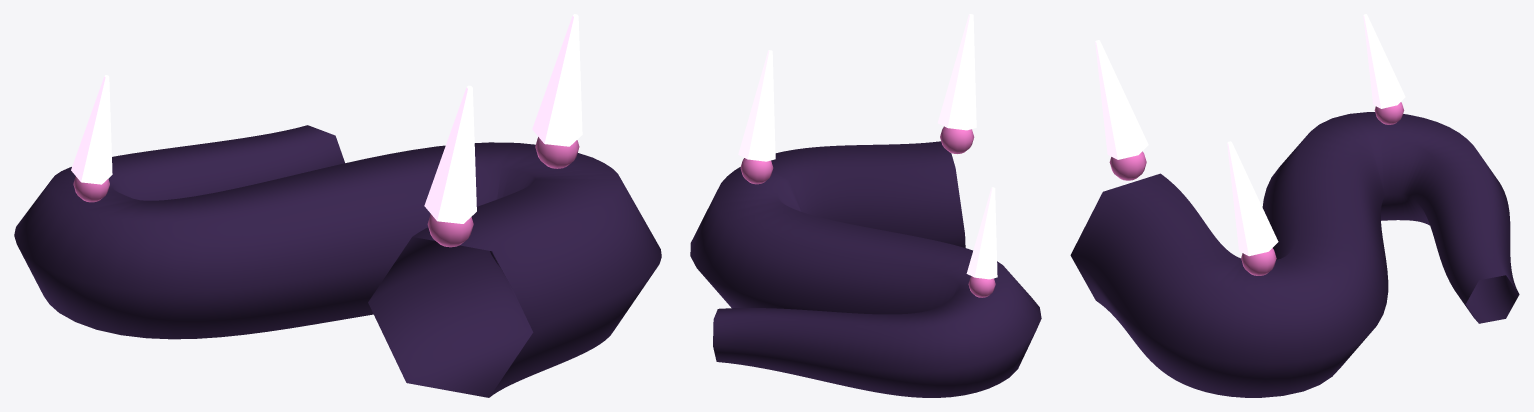
The model's file is SM_Keeper_Apep_Body_F01.fbx.
3 renders of one model, left to right at view 1: azimuth 30°, elevation 25°; view 2: azimuth 150°, elevation 25°; view 3: azimuth 270°, elevation 25°, orthographic. The views are drawn at different scales.
Visible parts, largest first — view 1: SM_Keeper_Apep_Body_F01; view 2: SM_Keeper_Apep_Body_F01; view 3: SM_Keeper_Apep_Body_F01.
Part boxes in pixels (box(x1,y1,x2,y2)): SM_Keeper_Apep_Body_F01: box(14, 14, 661, 397); SM_Keeper_Apep_Body_F01: box(690, 14, 1041, 397); SM_Keeper_Apep_Body_F01: box(1070, 14, 1519, 397).
Size of the model in its own units: 6.97 by 4.37 by 6.53.
